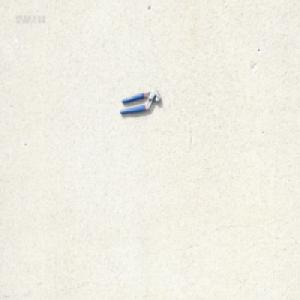Pliers: (118, 87, 161, 115)
